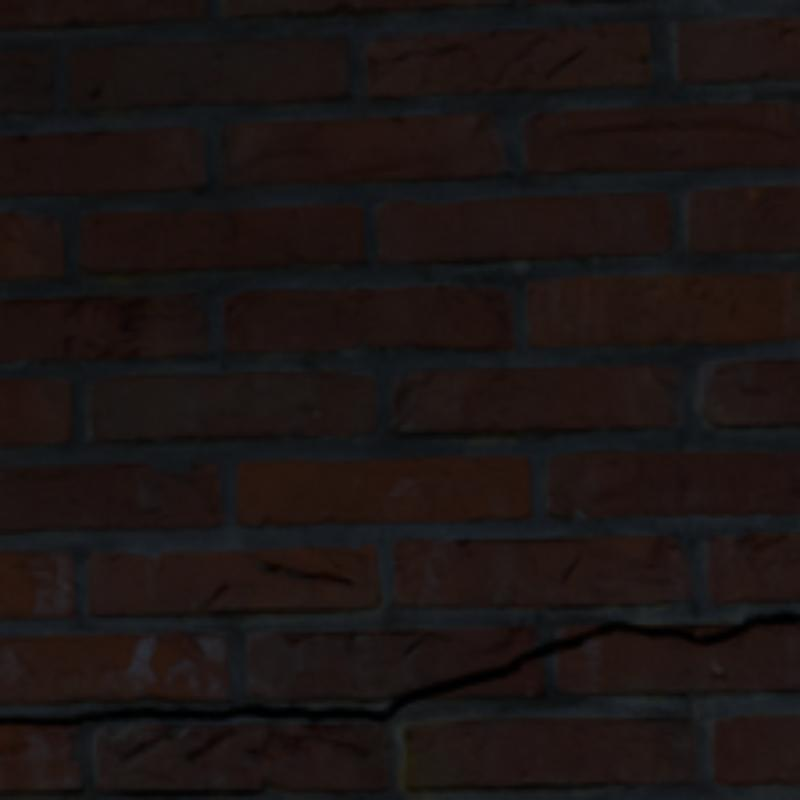crack: (0, 659, 520, 721), (524, 625, 679, 656), (679, 614, 796, 643)
